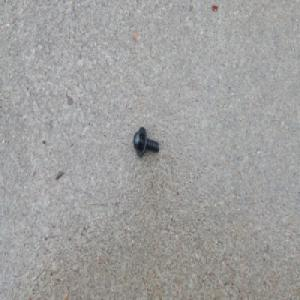BoltWasher: (133, 125, 160, 158)
